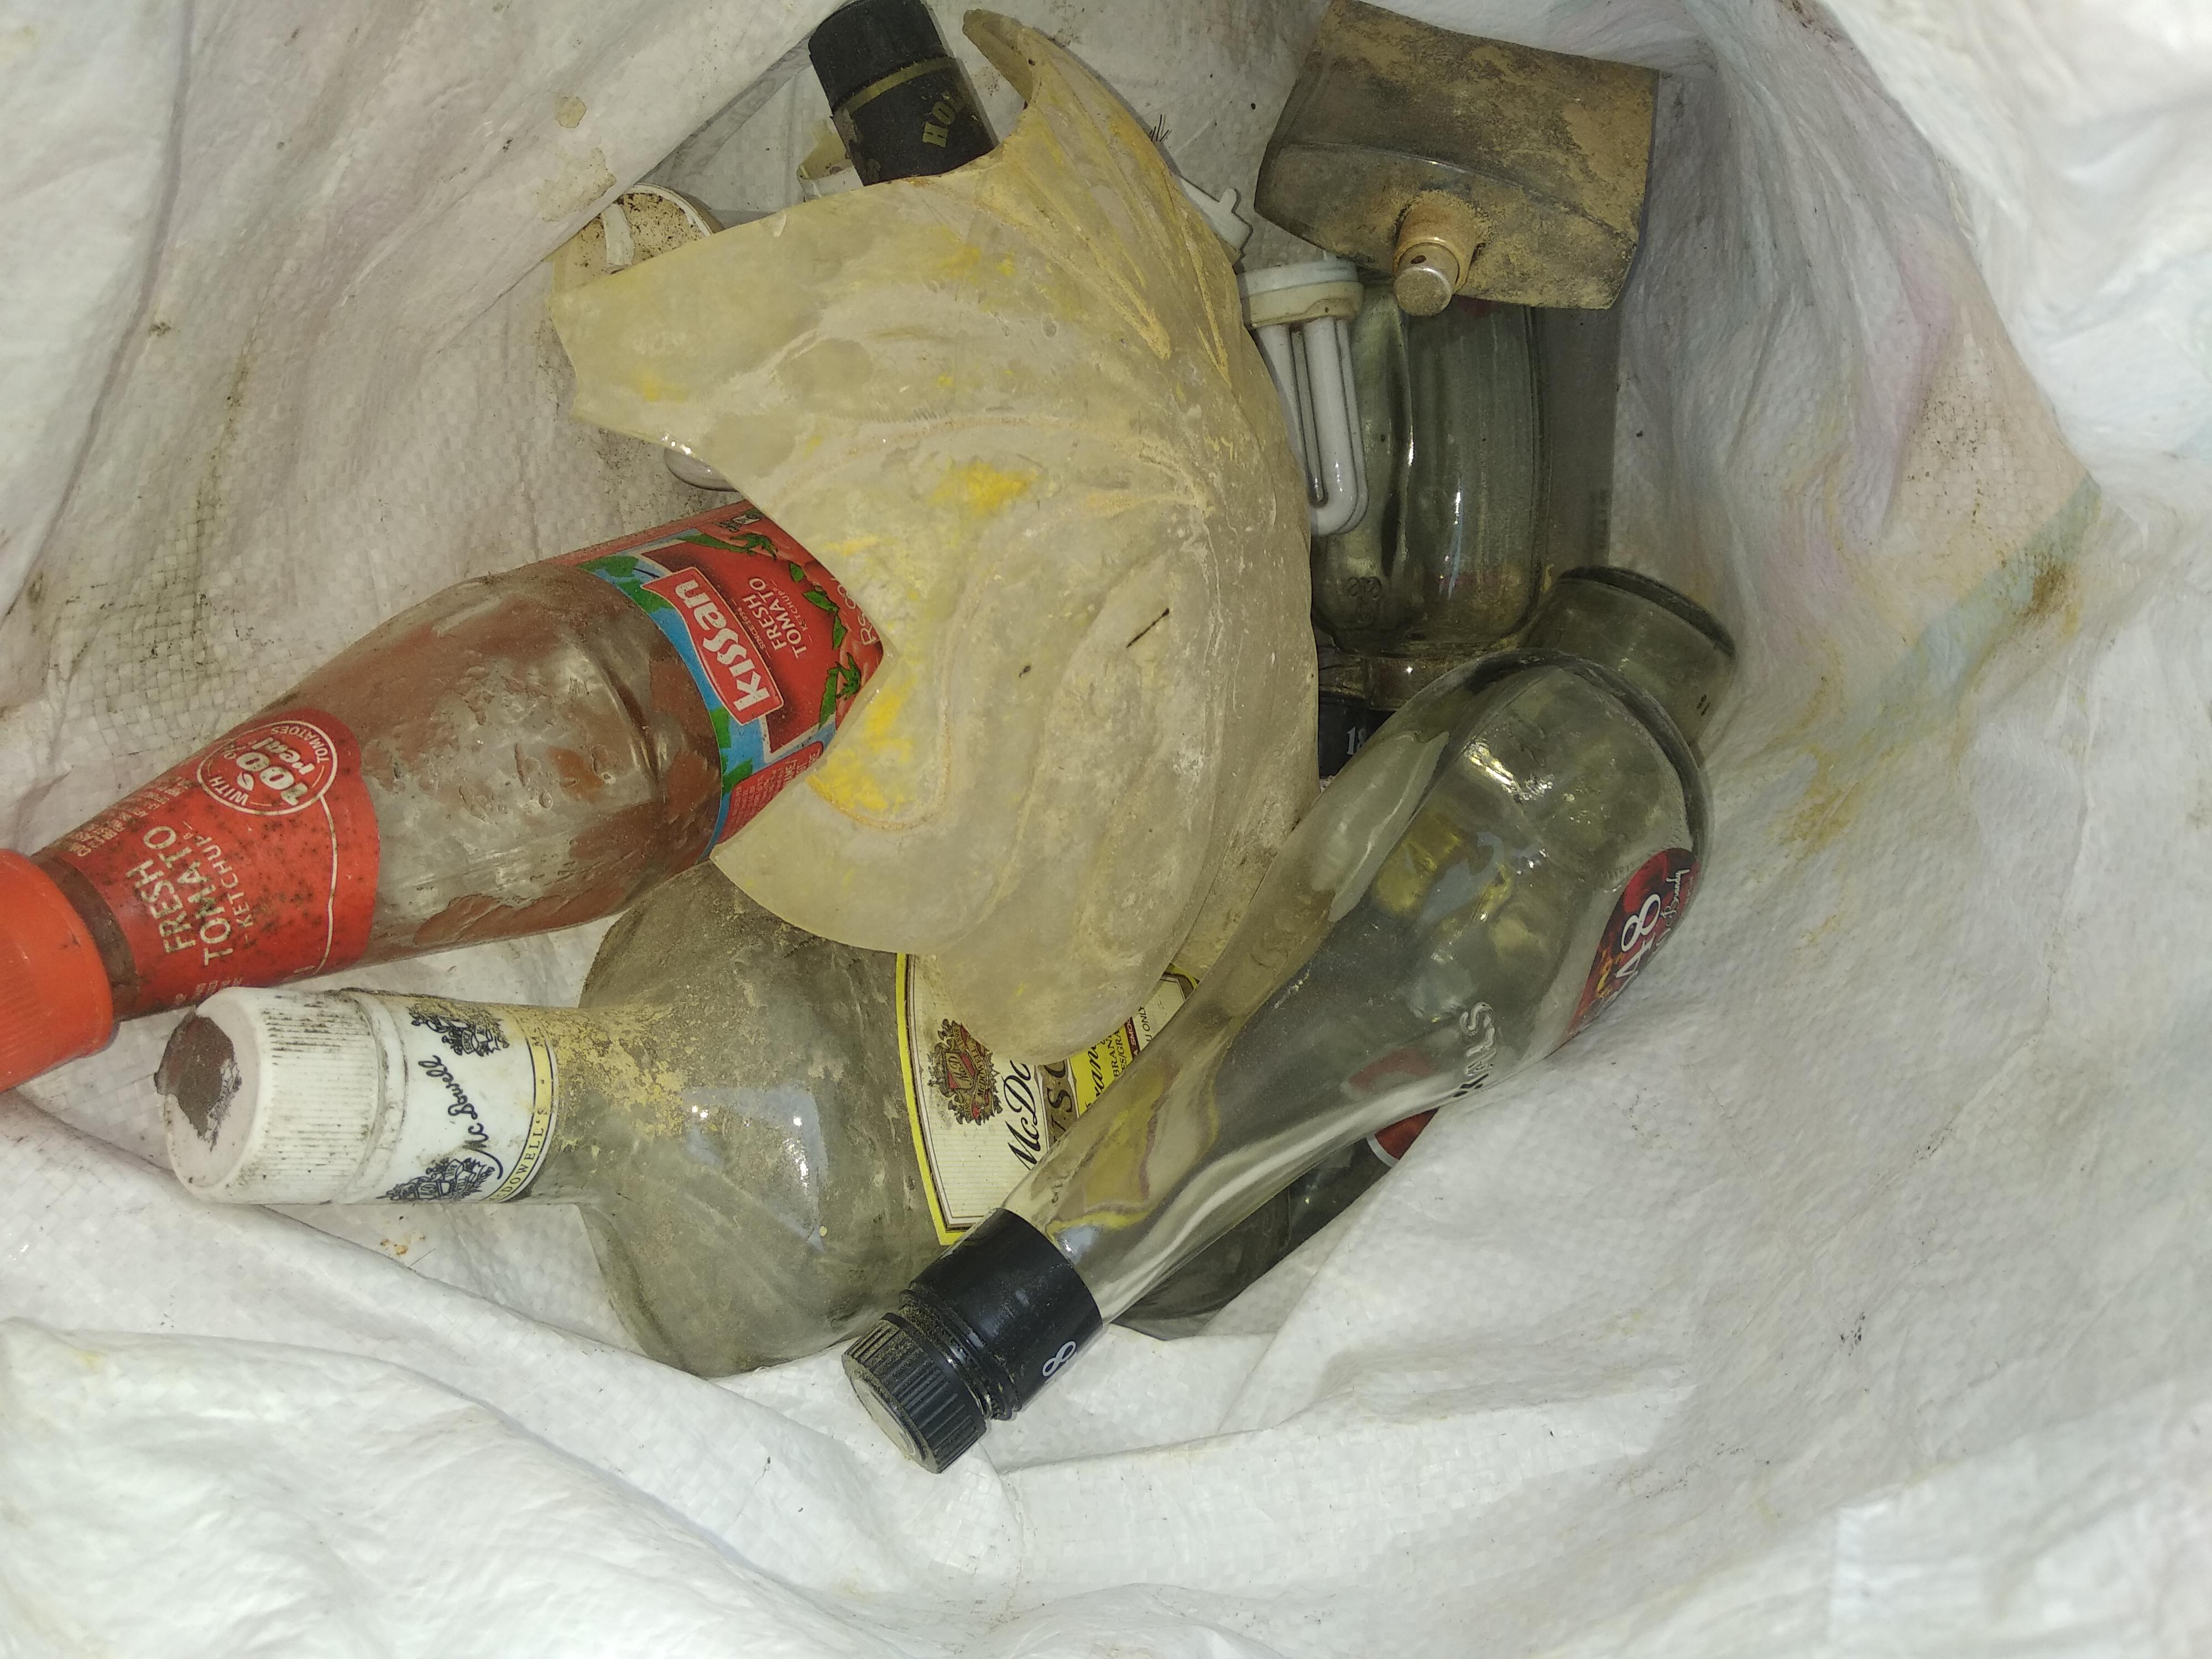organic: (0, 5, 1764, 1488)
